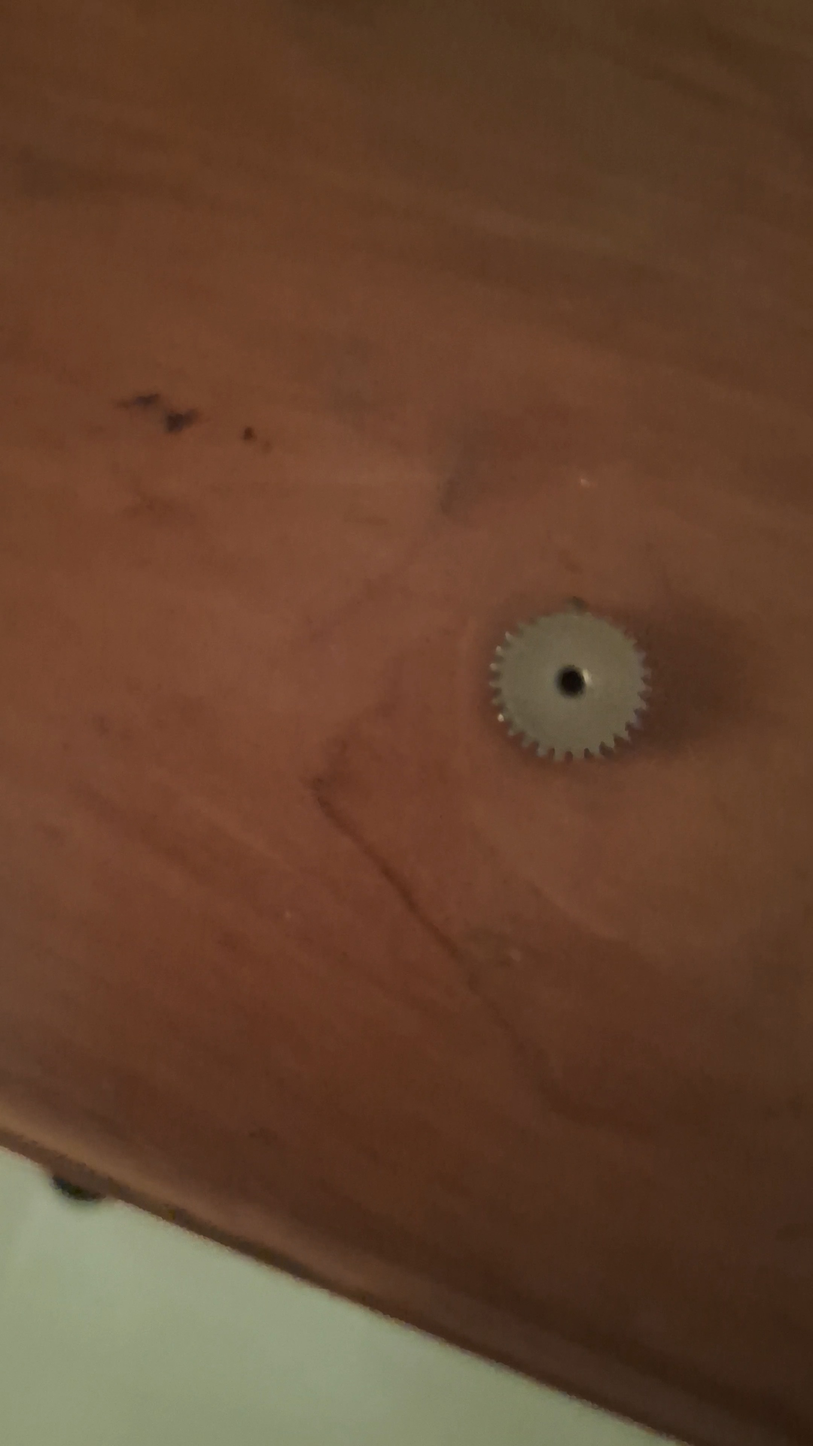spur gear: (491, 609, 649, 759)
